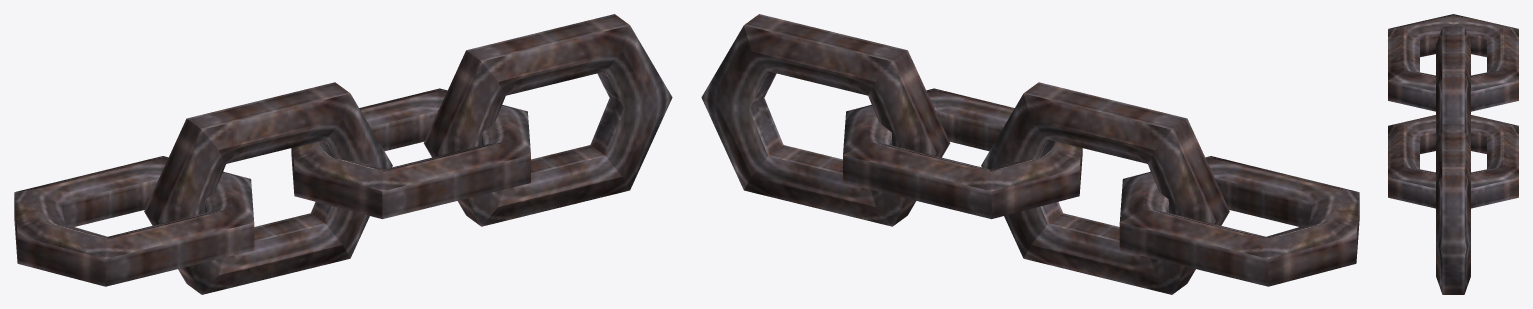
File: SM_EN_1002_tielian01.FBX
3 views of the same model, side by side, from view 1: azimuth 30°, elevation 25°; view 2: azimuth 150°, elevation 25°; view 3: azimuth 270°, elevation 25° (orthographic). The views are drawn at different scales.
Parts seen in each view (by area): view 1: SM_EN_1002_tielian01; view 2: SM_EN_1002_tielian01; view 3: SM_EN_1002_tielian01.
Part boxes in pixels (x1,y1,x2,y2): SM_EN_1002_tielian01: [14, 14, 672, 294]; SM_EN_1002_tielian01: [701, 14, 1359, 294]; SM_EN_1002_tielian01: [1388, 14, 1518, 294].
Size of the model in its own units: 212 by 51.66 by 51.66.
